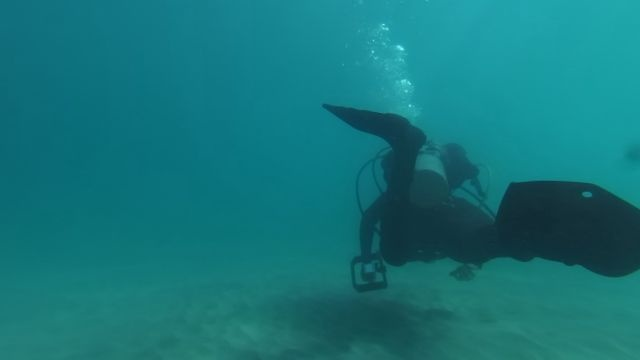Diver: (306, 61, 637, 317)
